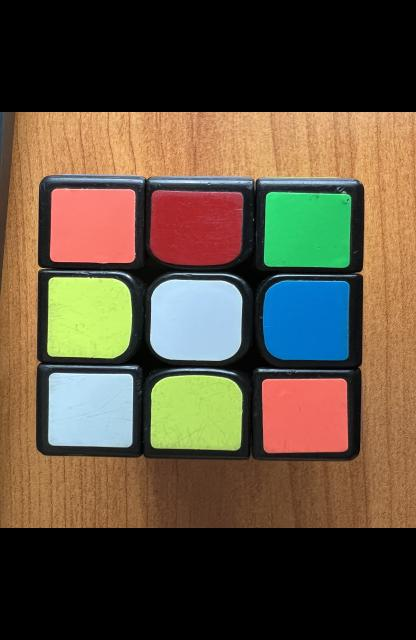Blue: (262, 280, 349, 360)
Green: (263, 192, 350, 268)
Orange: (260, 378, 348, 453), (49, 189, 134, 264)
Red: (149, 190, 242, 266)
White: (149, 280, 242, 361), (47, 373, 133, 448)
Yellow: (149, 375, 242, 451), (46, 277, 132, 359)
